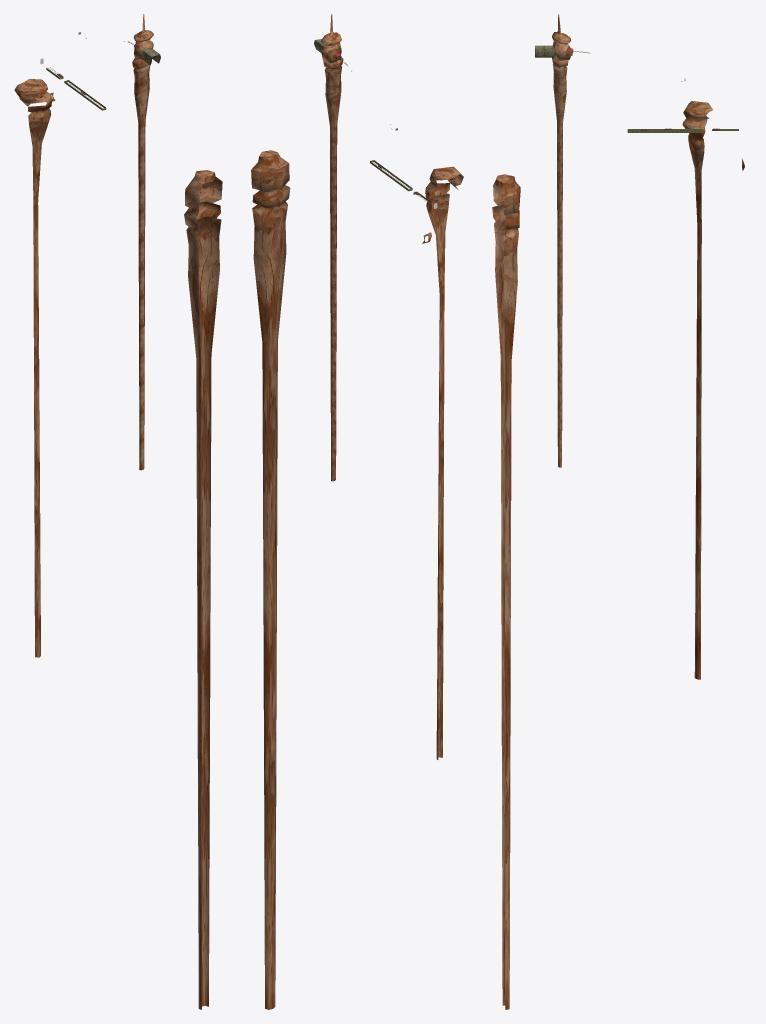
Rendered from Bullet Station 4.fbx.
3 renders of one model, left to right at view 1: azimuth 30°, elevation 25°; view 2: azimuth 210°, elevation 25°; view 3: azimuth 270°, elevation 25°, orthographic. The views are drawn at different scales.
Visible parts, largest first — view 1: STG08_ON_04; view 2: STG08_ON_04; view 3: STG08_ON_04.
Part boxes in pixels (x1,y1,x2,y2): STG08_ON_04: (14,14,222,1009); STG08_ON_04: (251,14,463,1009); STG08_ON_04: (492,14,744,1009).
Bounding box in the file's own units: 632027 × 5577102 × 1342834.
